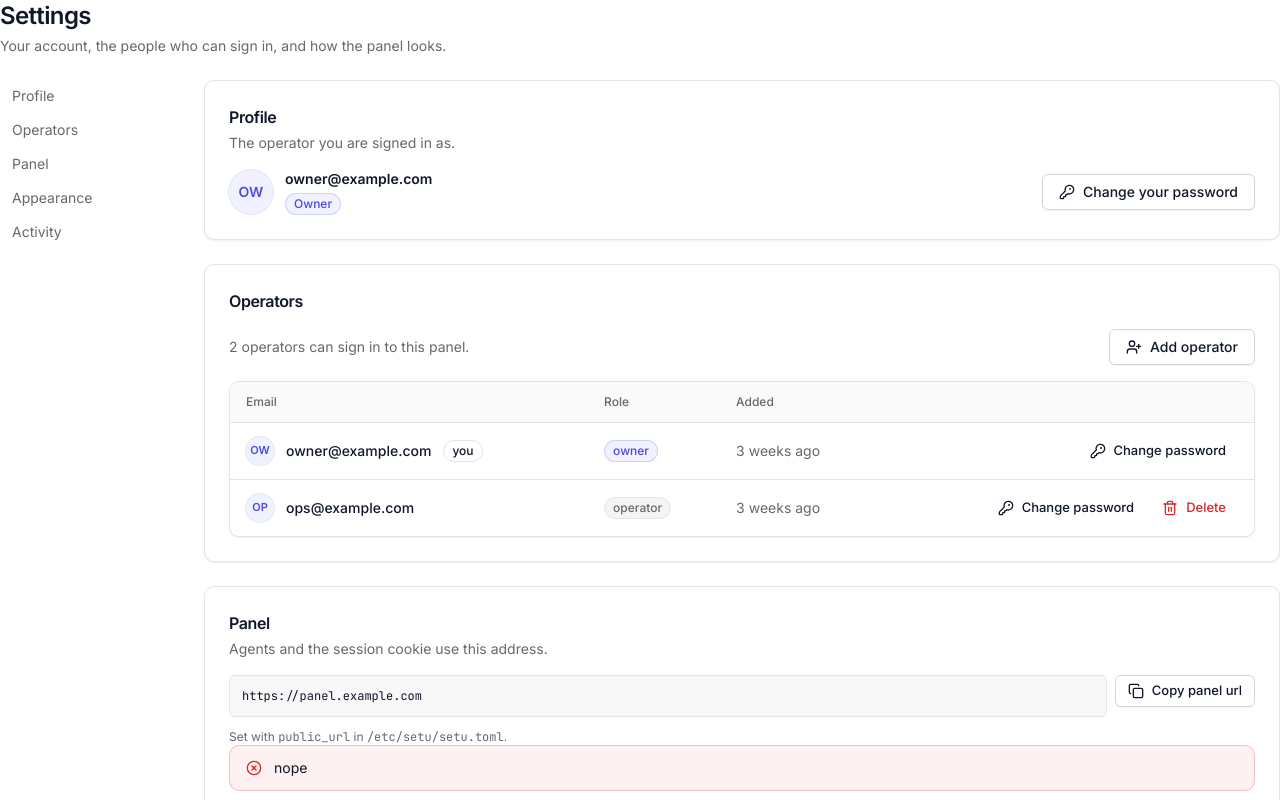
Scenario: settings › delete operator: the confirmation names the email; not offered for yourself
The width and height of the screenshot is (1280, 800).
Click the button "Delete".
click(1194, 508)  # box x1=1150 y1=492 x2=1238 y2=524
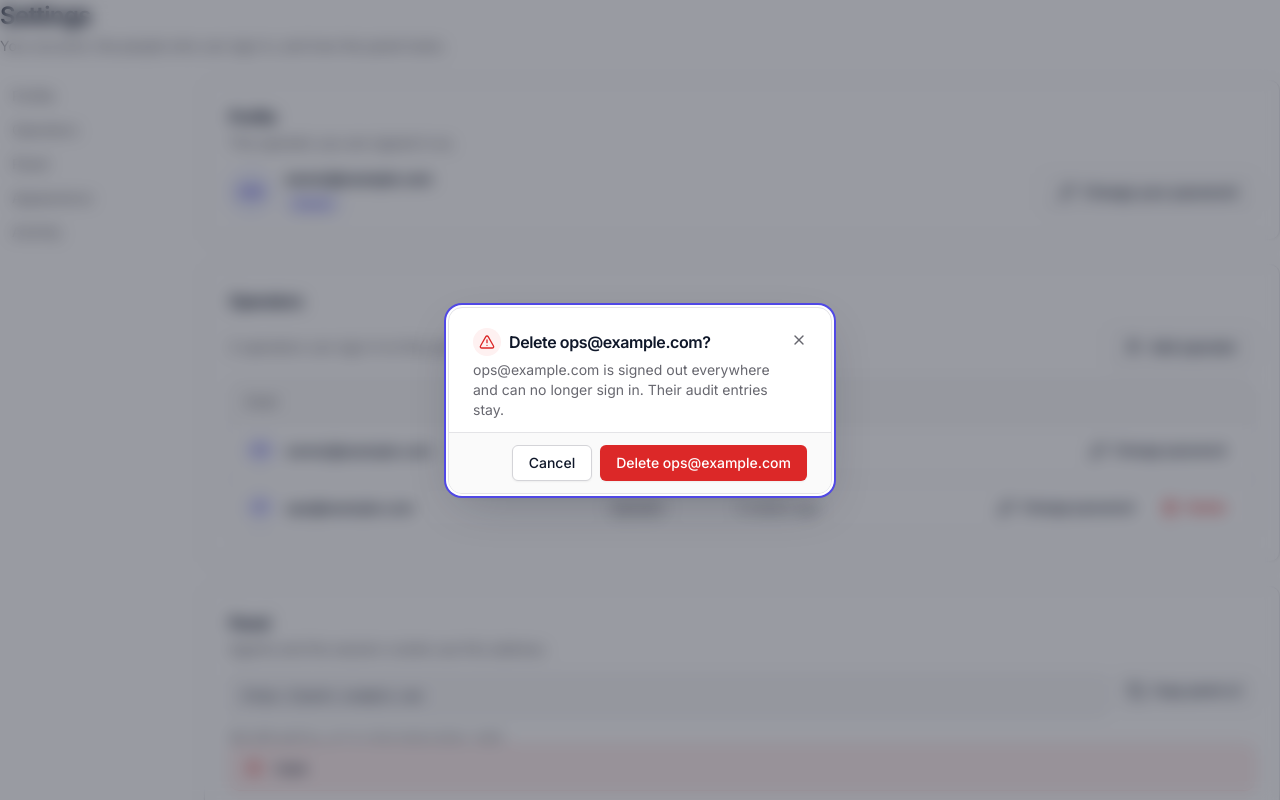
Result: the dialog shows "Delete ops@example.com?" at x1=509 y1=332 x2=711 y2=352
Click the button with test id "confirm-accept".
click(704, 462)  # box x1=600 y1=444 x2=807 y2=480
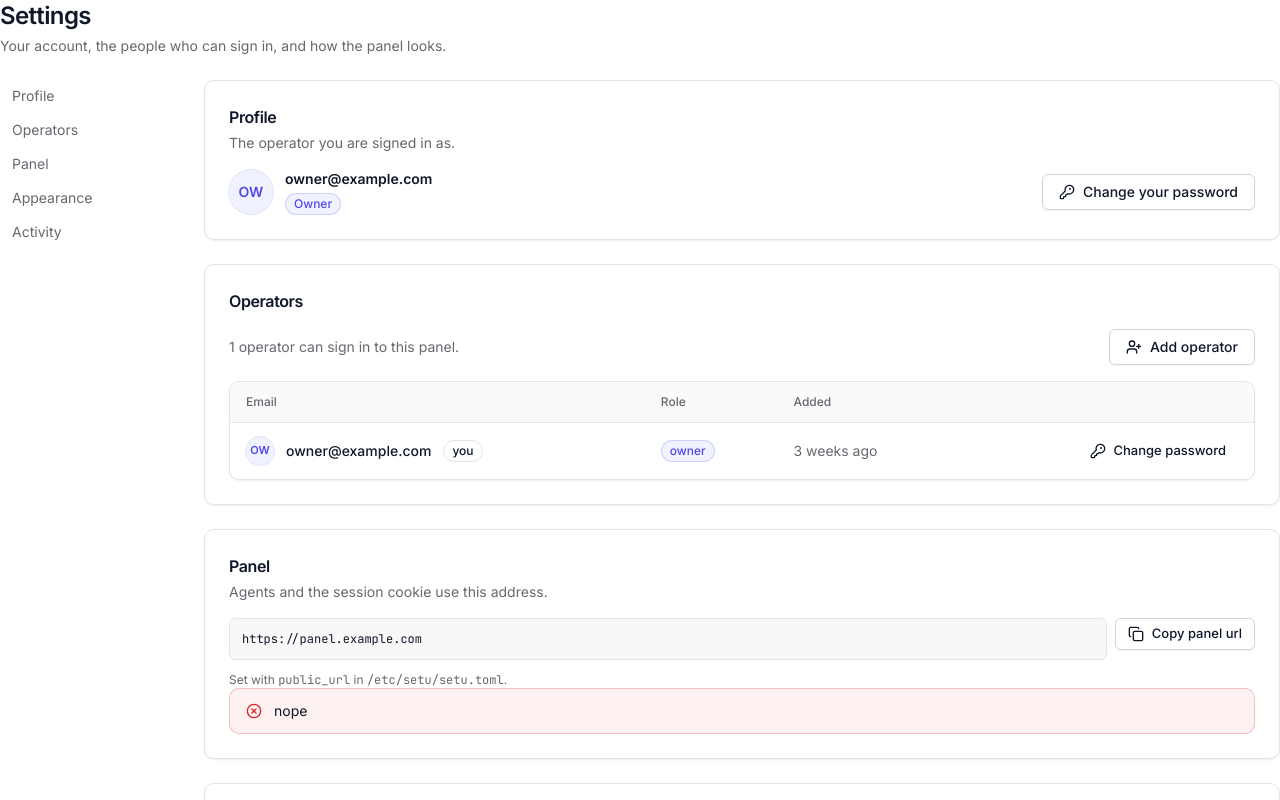
Result: the text "ops@example.com" is not shown
